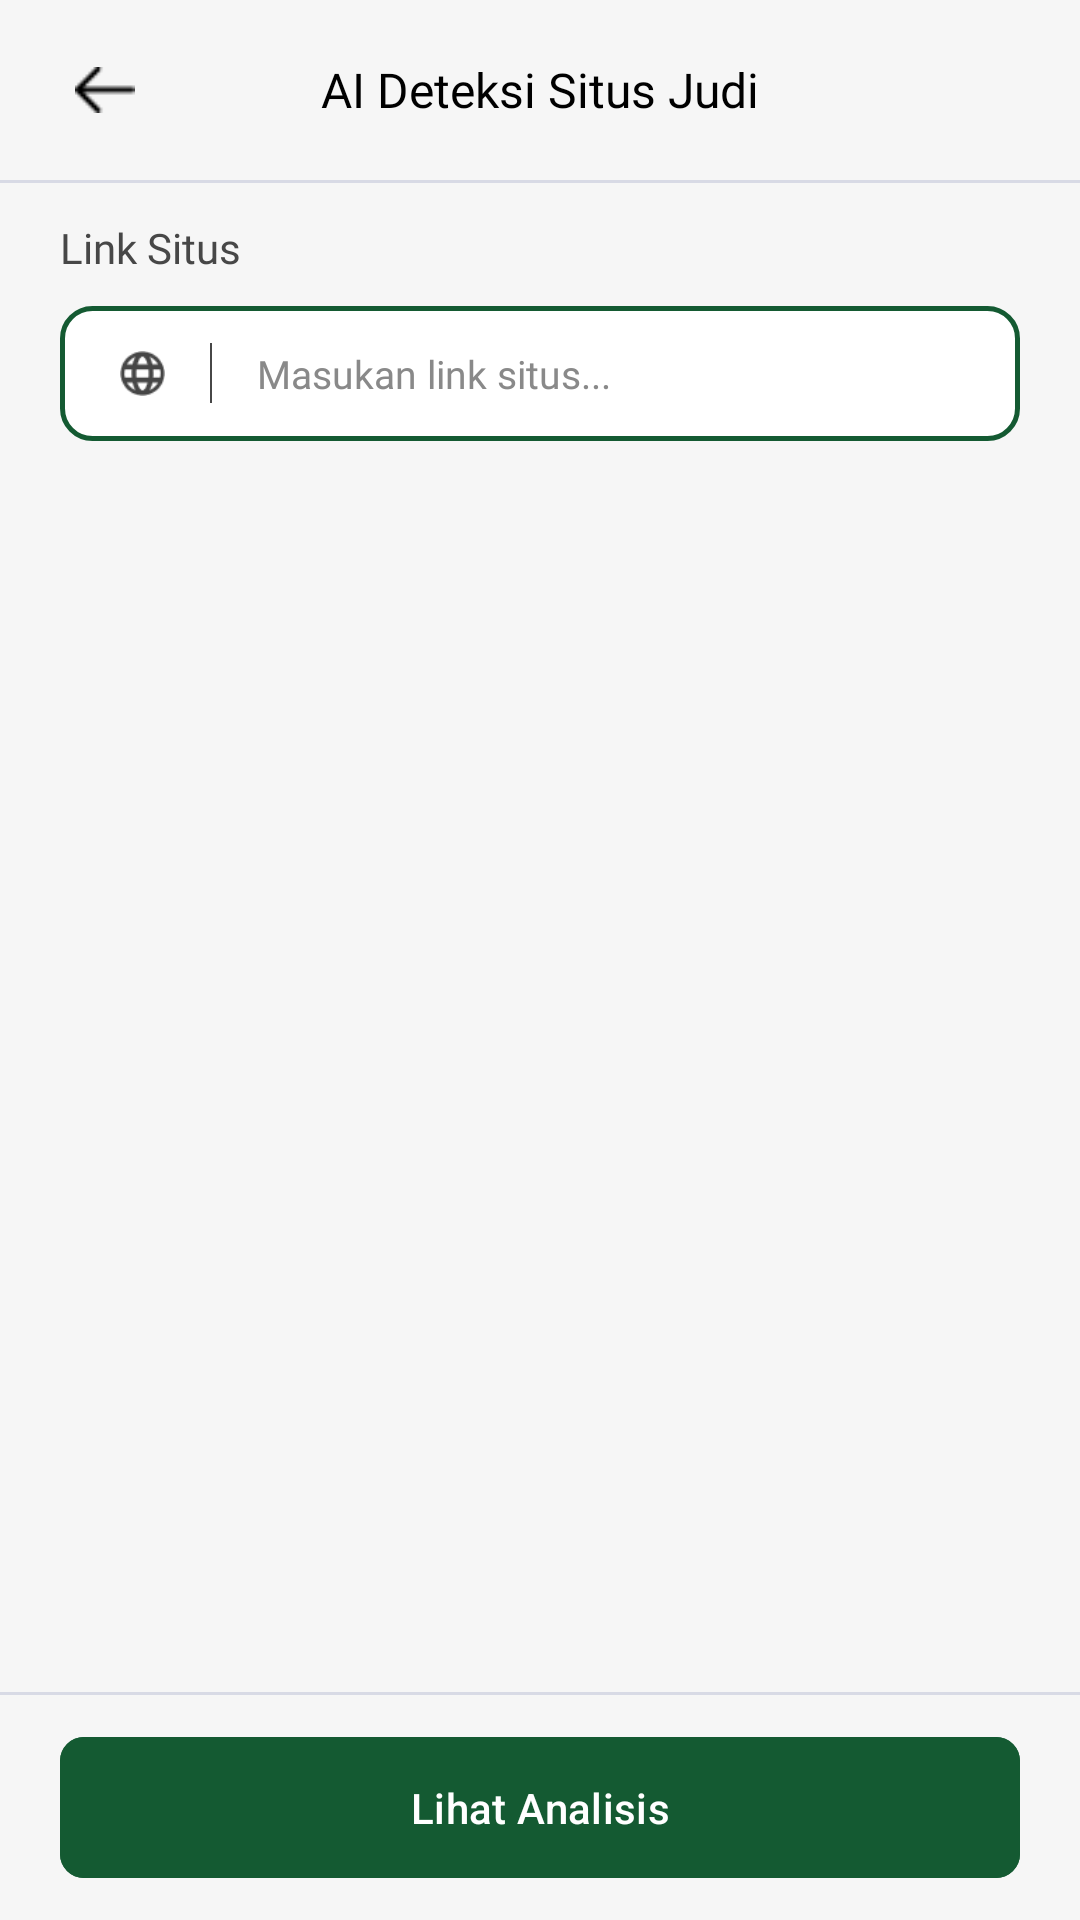

Icon bounding boxes for this 1080×1920 phone screenshot, format (x1, y1, x2, y2):
arrow left: (75, 67, 135, 113)
web: (120, 351, 165, 396)
